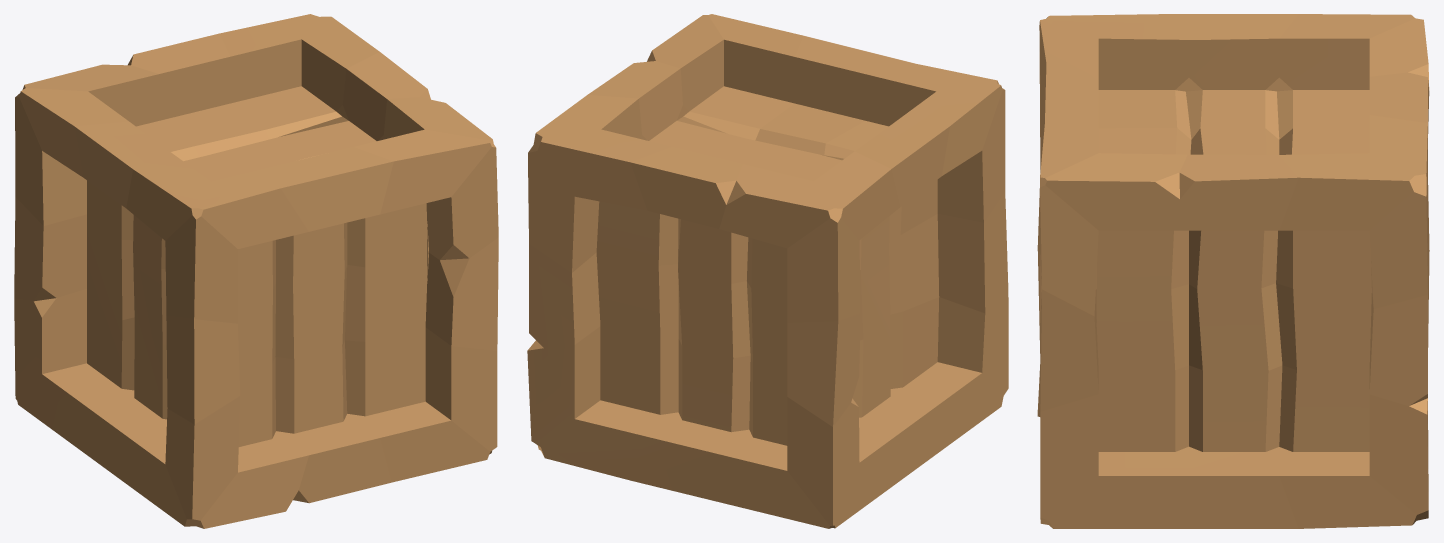
The model's file is crate.fbx.
The picture shows the model from 3 angles, left to right: view 1: azimuth 30°, elevation 25°; view 2: azimuth 150°, elevation 25°; view 3: azimuth 270°, elevation 25°; orthographic projection. The views are drawn at different scales.
Visible parts, largest first — view 1: Crate; view 2: Crate; view 3: Crate.
Part boxes in pixels (bbox=[...]): Crate: bbox=[14, 14, 498, 528]; Crate: bbox=[527, 14, 1008, 528]; Crate: bbox=[1037, 14, 1429, 528].
Bounding box in the file's own units: 201 × 199 × 200.
